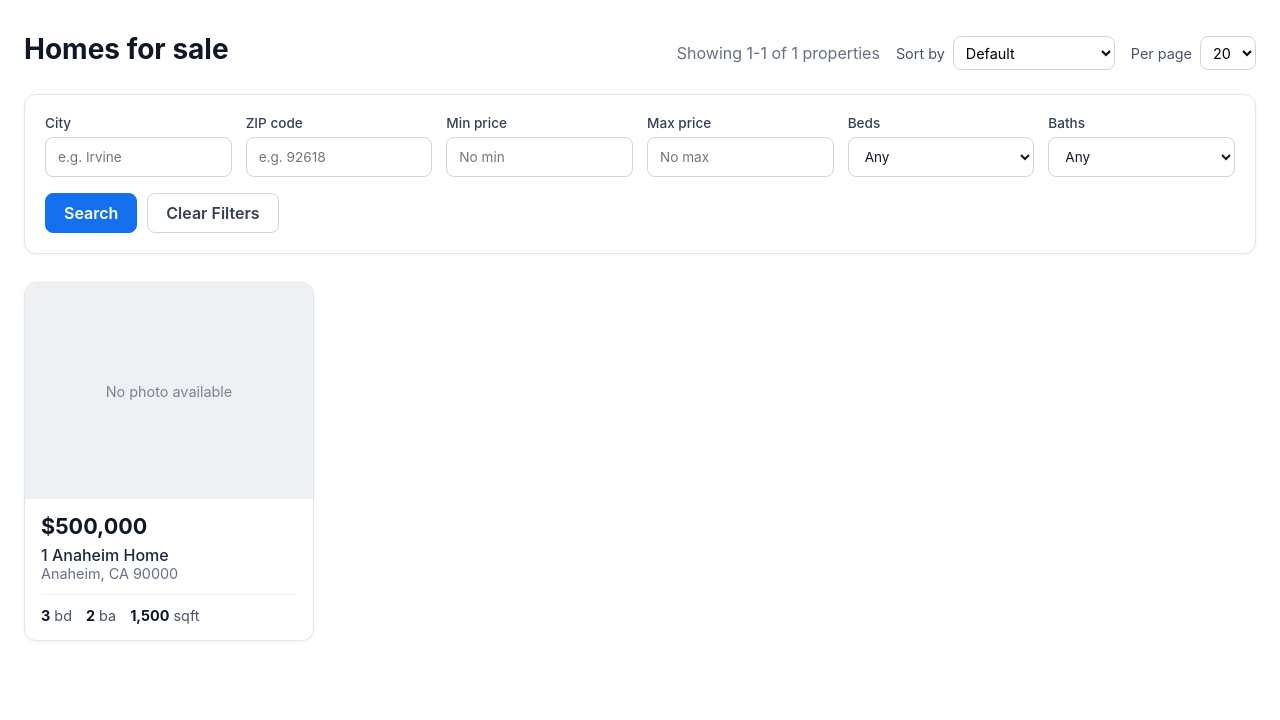
ListingsPage filters › never shows stale results after Clear and a new search
Step 1. Type "Irvine" into the field labelled "City" → (138, 157), box left=45, top=137, right=232, bottom=177
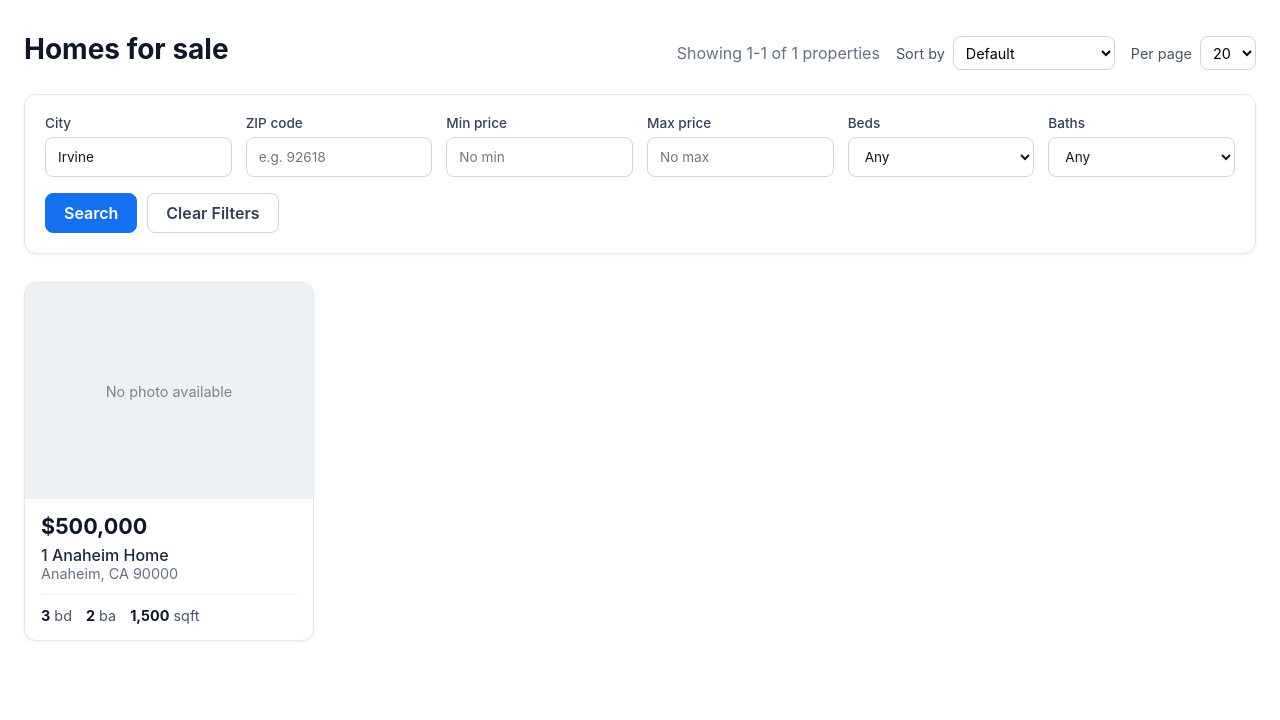
Step 2. Click the button "Search" → (91, 213), box left=45, top=193, right=137, bottom=233
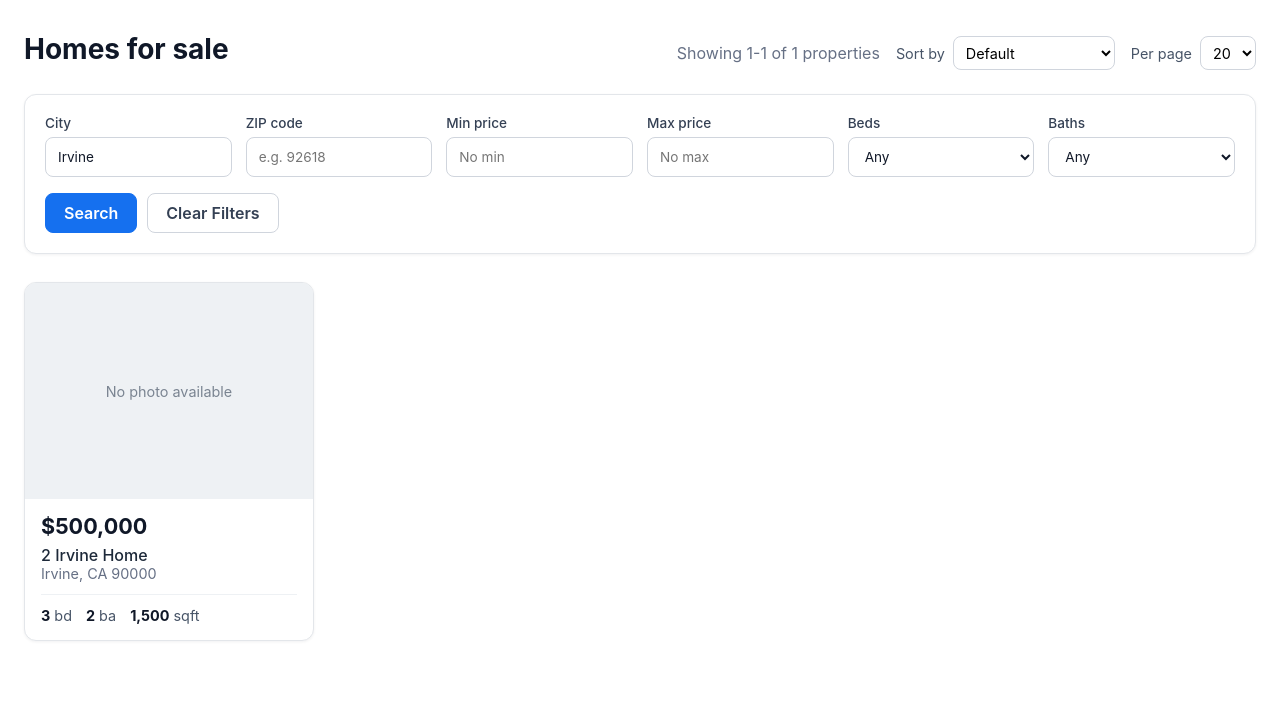
Check: the link "2 Irvine Home" is shown, box left=41, top=545, right=148, bottom=565
Step 3. Click the button "Clear Filters" → (213, 213), box left=147, top=193, right=279, bottom=233
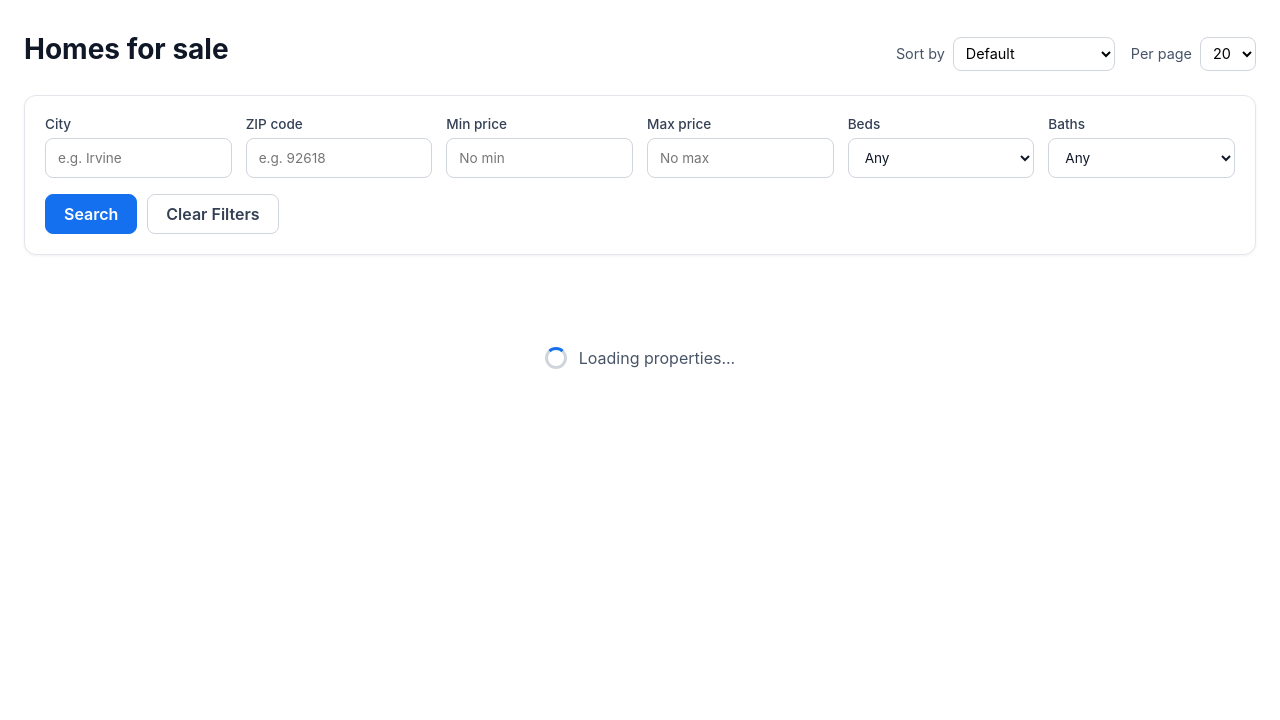
Check: the link "2 Irvine Home" is gone
Check: the field labelled "City" is empty
Step 4. Type "Tustin" into the field labelled "City" → (138, 158), box left=45, top=138, right=232, bottom=178
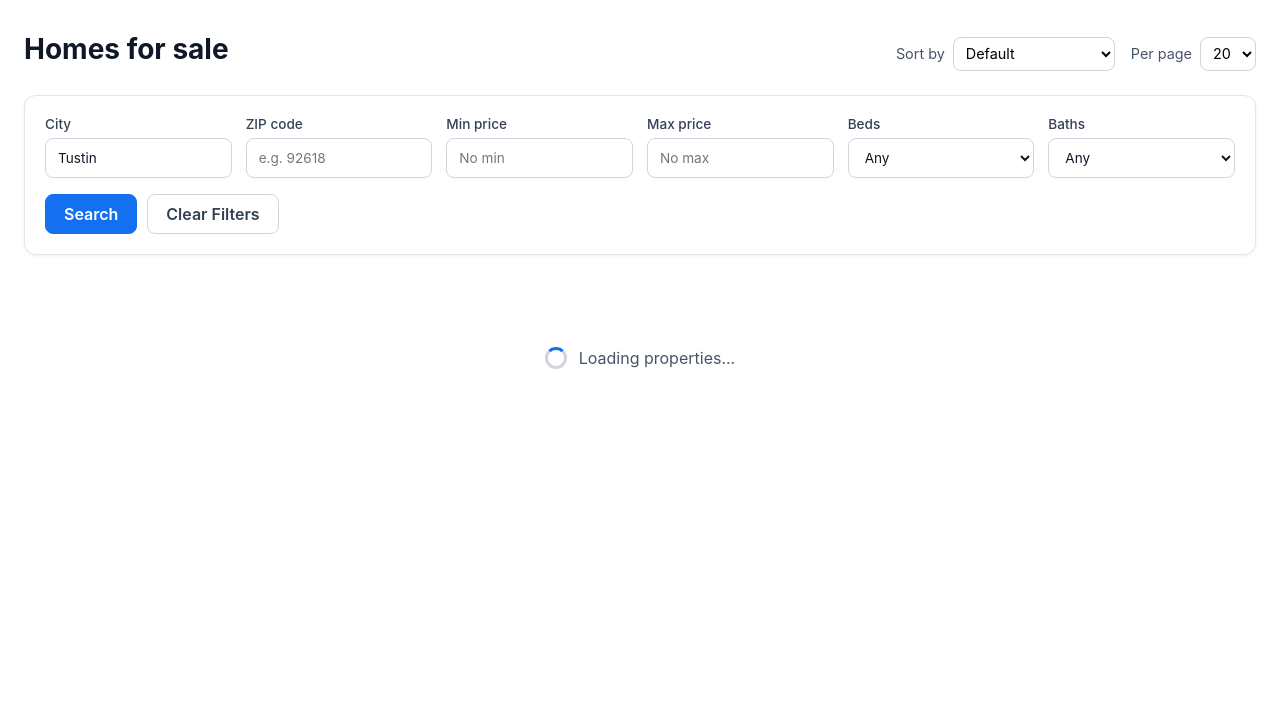
Step 5. Click the button "Search" → (91, 214), box left=45, top=194, right=137, bottom=234
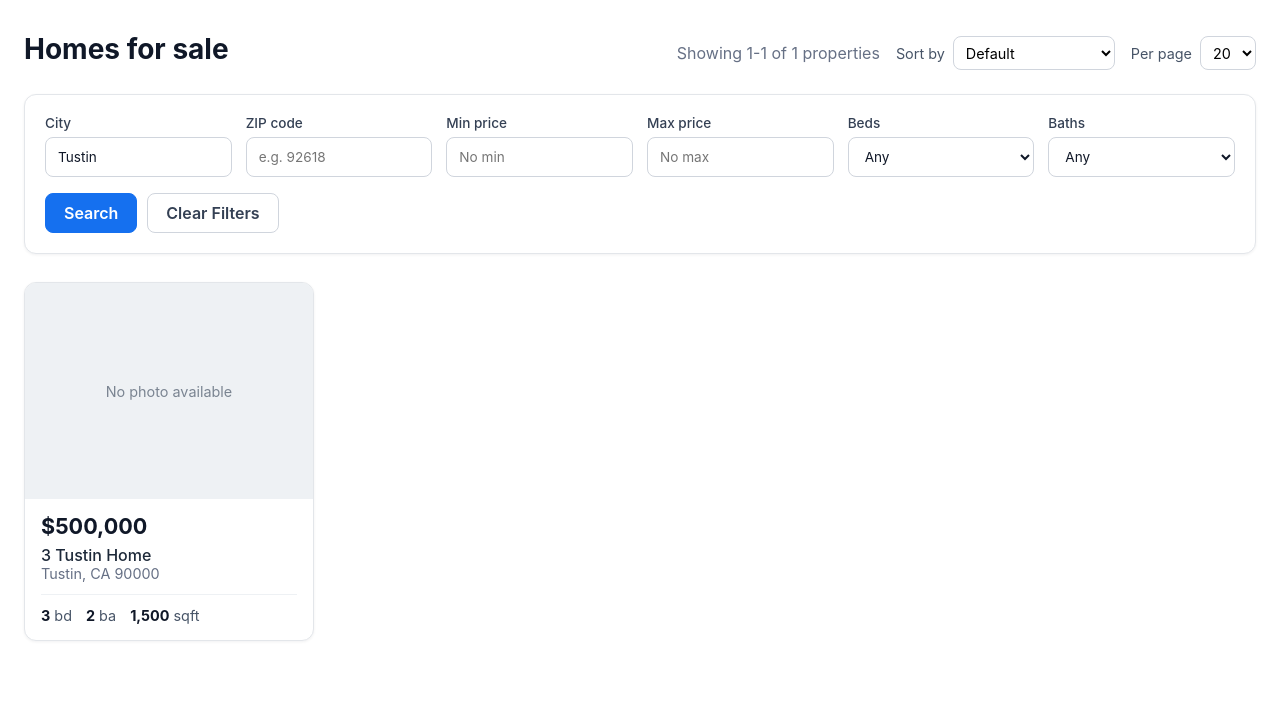
Check: the link "1 Anaheim Home" is not shown
Check: the link "3 Tustin Home" is shown, box left=41, top=545, right=151, bottom=565
